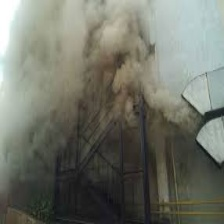smoke: (12, 2, 152, 170)
